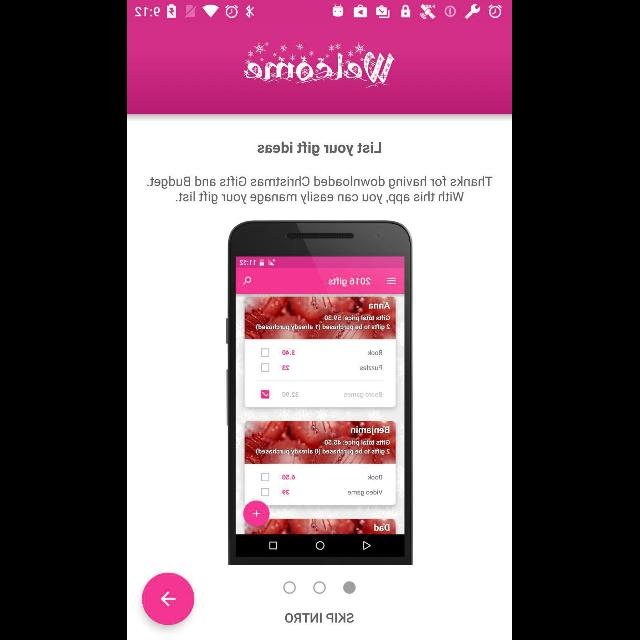button: (142, 572, 196, 626)
image: (226, 220, 414, 566), (244, 41, 396, 88)
pageindicator: (284, 581, 356, 595)
text: (148, 176, 494, 204), (258, 141, 382, 157), (285, 612, 355, 624)
uppertaskbar: (128, 1, 512, 23)
